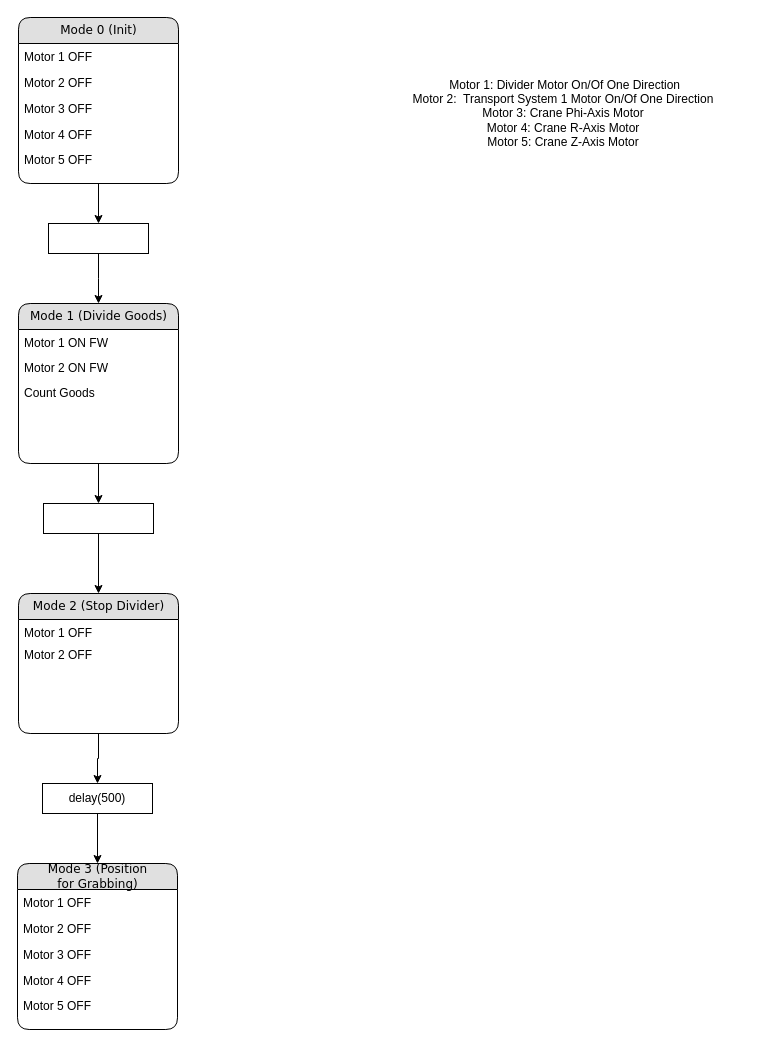
Image size: 766x1047. Some labels were removed from this diagram. Each missing label, with the centre of its shape:
"Button Start" goes at point 98,238.
"count >= 10" goes at point 98,518.
